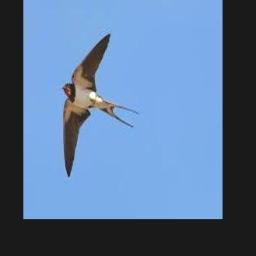Swallow: (61, 35, 139, 178)
